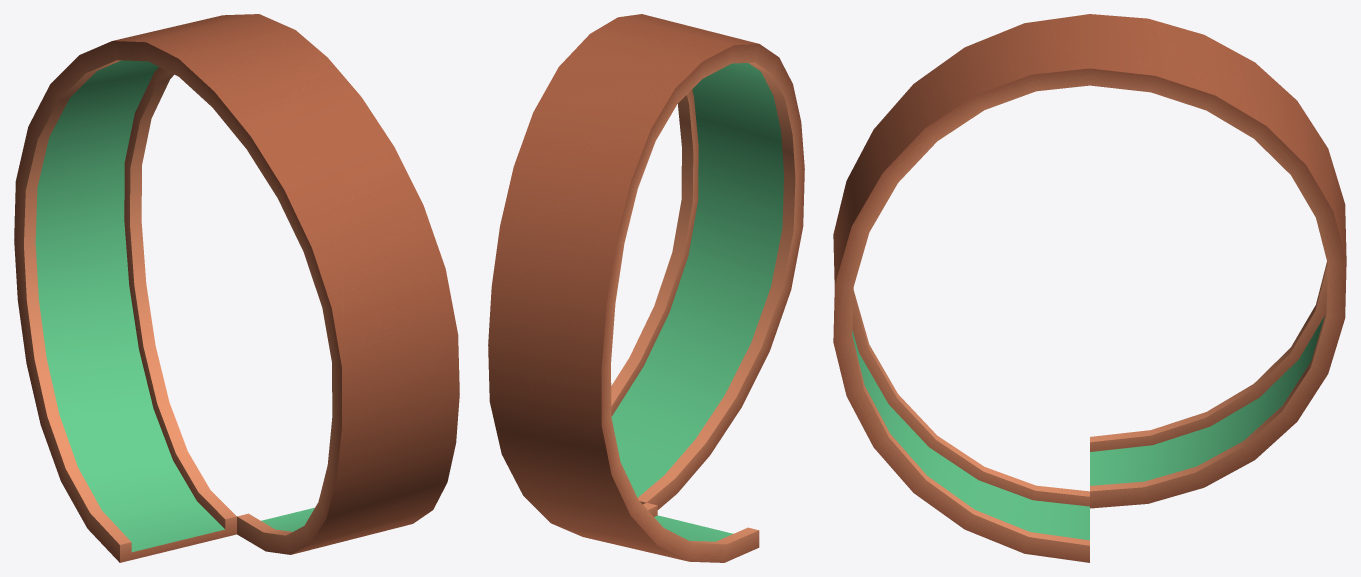
Rendered from spline-default-looping.glb.
3 views of the same model, side by side, from view 1: azimuth 30°, elevation 25°; view 2: azimuth 150°, elevation 25°; view 3: azimuth 270°, elevation 25° (orthographic). The views are drawn at different scales.
Visible parts, largest first — view 1: spline-default-looping; view 2: spline-default-looping; view 3: spline-default-looping.
Boxes of the visible parts, box(x1,y1,x2,y2) form: spline-default-looping: box(14, 14, 459, 562); spline-default-looping: box(488, 14, 804, 562); spline-default-looping: box(833, 14, 1346, 562).
Size of the model in its own units: 2 by 4 by 3.98.
1 material, 1 textured.
